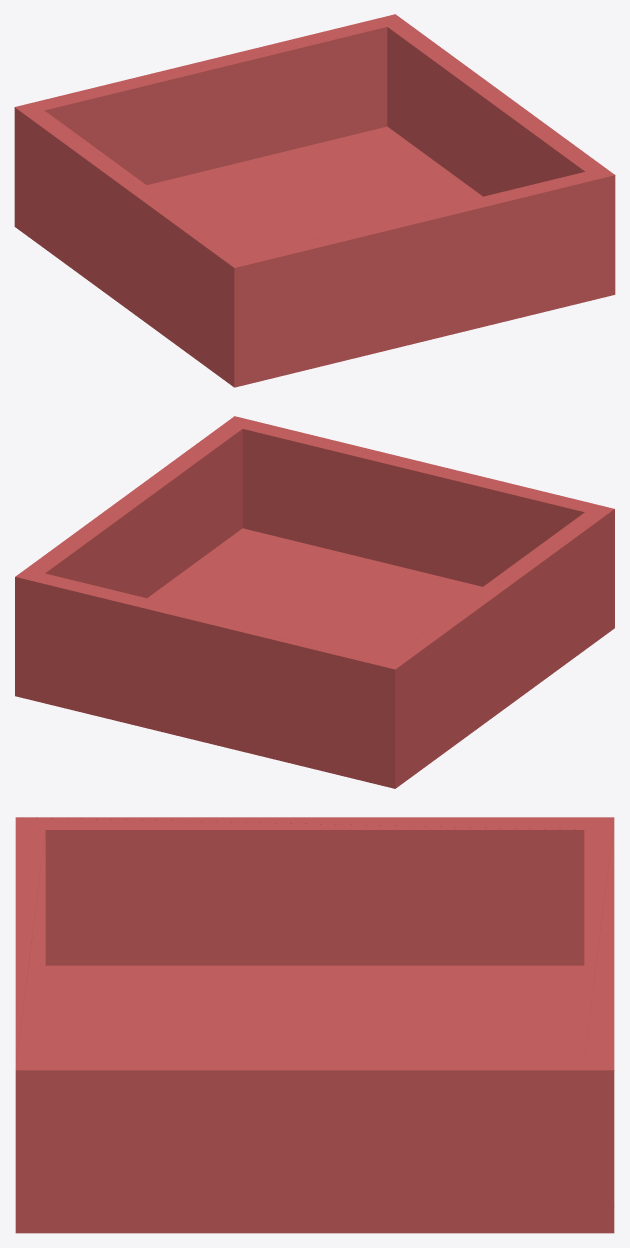
Rendered from dp_lift.glb.
3 renders of one model, top to bottom at view 1: azimuth 30°, elevation 25°; view 2: azimuth 150°, elevation 25°; view 3: azimuth 270°, elevation 25°, orthographic. The views are drawn at different scales.
Visible parts, largest first — view 1: dp_lift_col; view 2: dp_lift_col; view 3: dp_lift_col.
Boxes of the visible parts, left/top/right/bottom form: dp_lift_col: left=14, top=14, right=615, bottom=387; dp_lift_col: left=15, top=416, right=614, bottom=788; dp_lift_col: left=15, top=817, right=614, bottom=1233.
Size of the model in its own units: 10.06 by 3 by 10.05.
